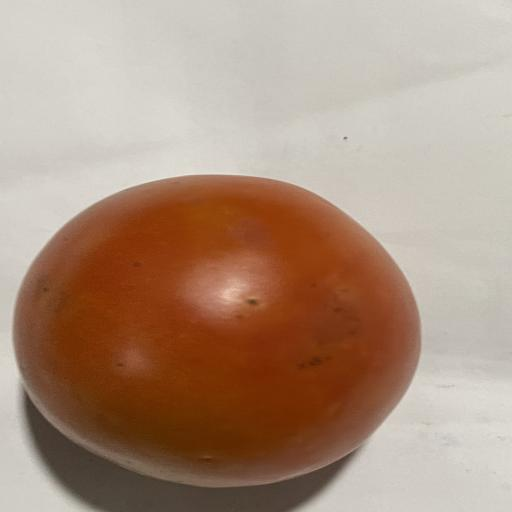ripe: (13, 175, 420, 487)
